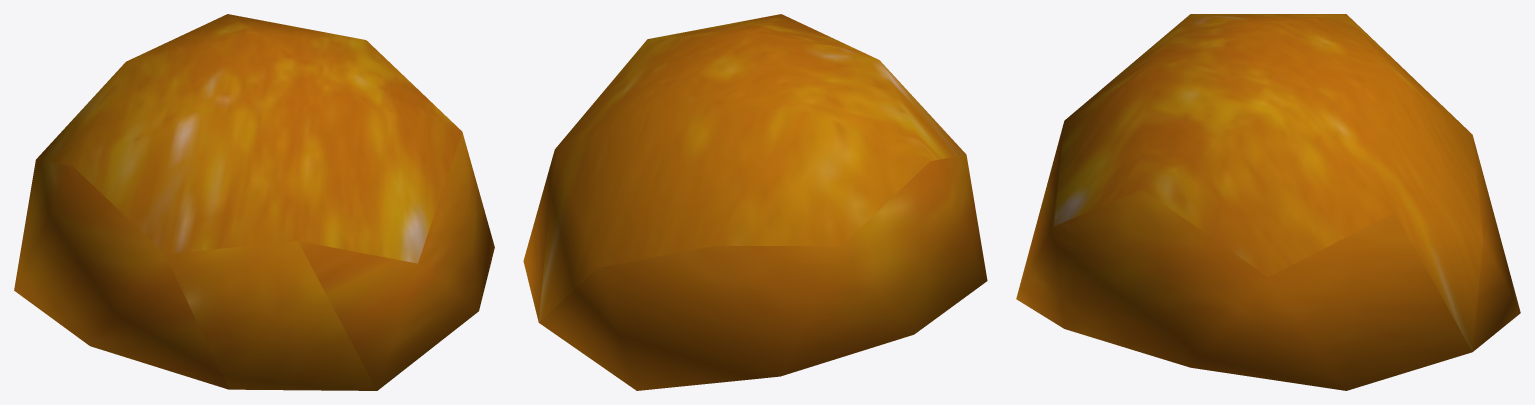
File: CandyGumDropDarkOrange.fbx
3 renders of one model, left to right at view 1: azimuth 30°, elevation 25°; view 2: azimuth 150°, elevation 25°; view 3: azimuth 270°, elevation 25°, orthographic. The views are drawn at different scales.
Visible parts, largest first — view 1: Icosphere.007; view 2: Icosphere.007; view 3: Icosphere.007.
Boxes of the visible parts, x1,y1,x2,y2 form: Icosphere.007: [14, 14, 494, 390]; Icosphere.007: [523, 14, 987, 390]; Icosphere.007: [1016, 14, 1520, 390].
Bounding box in the file's own units: 190 × 131 × 200.
